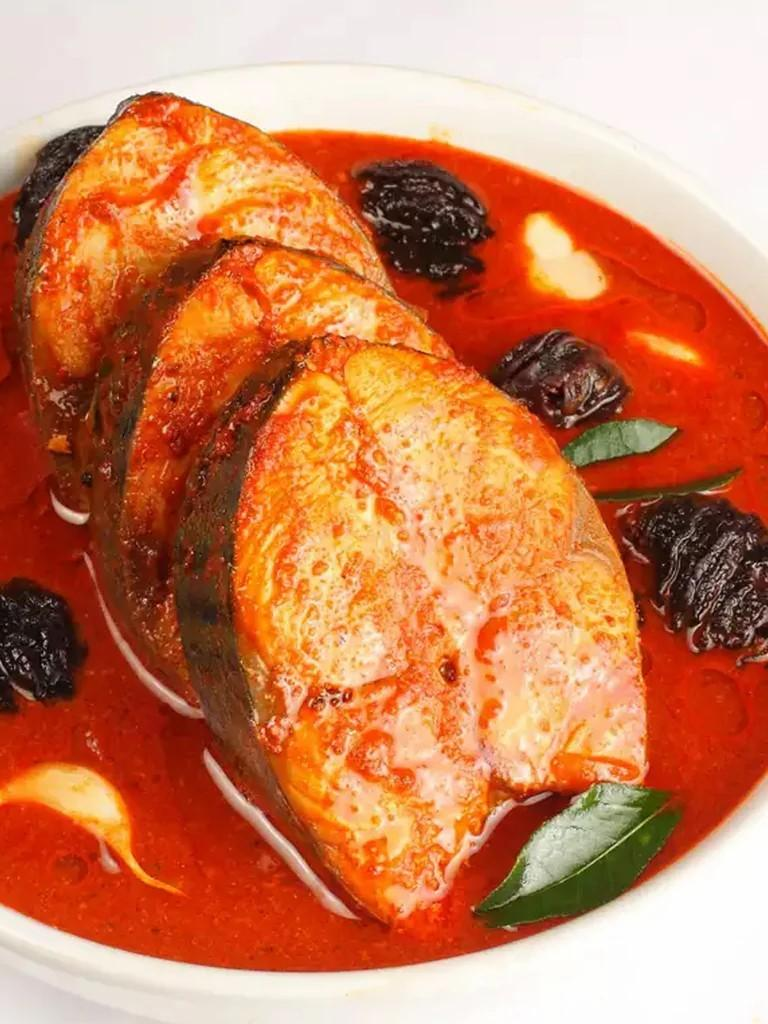FishCurry: (0, 88, 768, 975)
